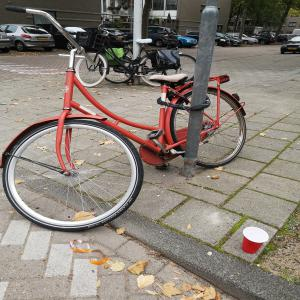Cup: (238, 225, 273, 259)
